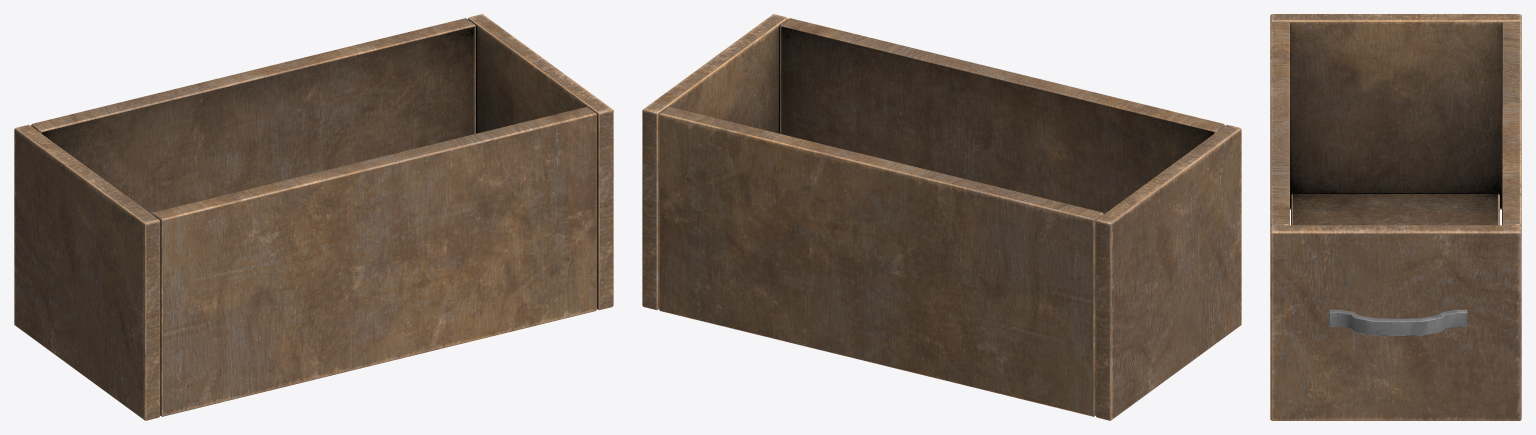
The model's file is SM_Shelf_2_Drawer.fbx.
The picture shows the model from 3 angles, left to right: view 1: azimuth 30°, elevation 25°; view 2: azimuth 150°, elevation 25°; view 3: azimuth 270°, elevation 25°; orthographic projection. The views are drawn at different scales.
Parts seen in each view (by area): view 1: SM_Shelf_2_Drawer_LOD0; view 2: SM_Shelf_2_Drawer_LOD0; view 3: SM_Shelf_2_Drawer_LOD0.
Boxes of the visible parts, bbox=[...] form: SM_Shelf_2_Drawer_LOD0: bbox=[14, 14, 613, 420]; SM_Shelf_2_Drawer_LOD0: bbox=[642, 14, 1241, 420]; SM_Shelf_2_Drawer_LOD0: bbox=[1270, 14, 1521, 420].
Bounding box in the file's own units: 53.87 × 24.72 × 20.61.
1 material, 1 textured.
